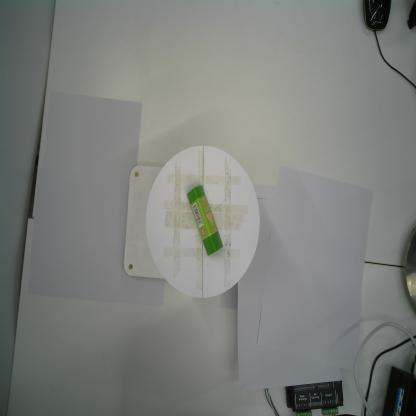Stationery: (185, 182, 224, 258)
